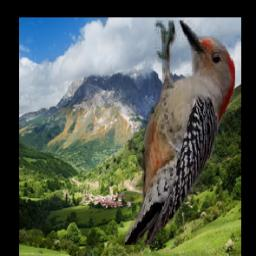Woodpecker: (126, 20, 236, 245)
